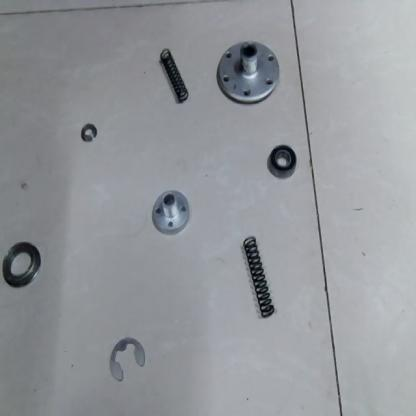FOD: (0, 2, 401, 415), (212, 34, 284, 108), (240, 233, 278, 322), (0, 238, 44, 292), (149, 186, 192, 237), (158, 42, 190, 107), (107, 335, 147, 386), (265, 142, 299, 180), (78, 121, 99, 145)
